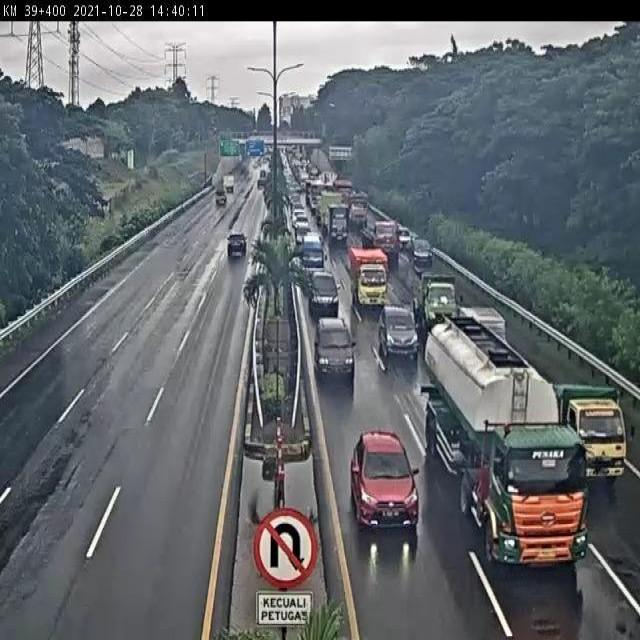bus-s-: (301, 232, 325, 280)
car: (347, 427, 423, 533), (315, 313, 357, 380), (374, 304, 422, 361), (307, 266, 340, 314), (408, 234, 432, 266), (227, 234, 247, 258)
truck-m-: (551, 371, 625, 484), (349, 248, 391, 307), (412, 272, 459, 323)
truck-xl-: (426, 313, 592, 564), (361, 216, 401, 261)
